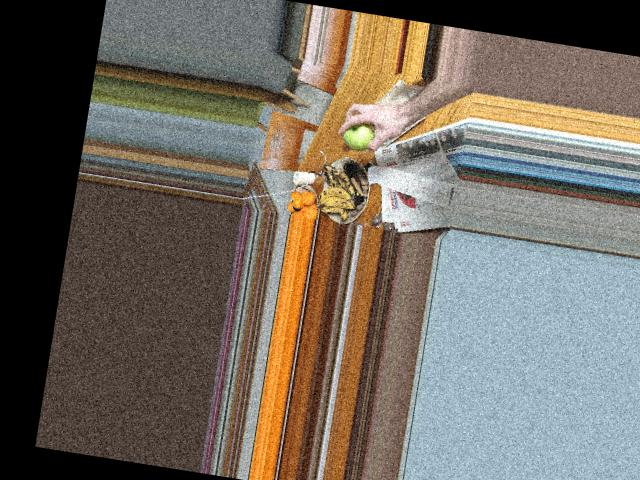apple: (337, 117, 377, 154)
